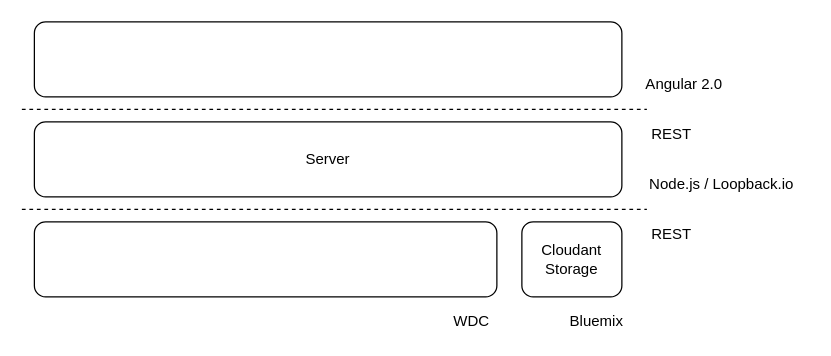
The diagram is 831 pixels wide and 356 high, and some of its shapes have lost their labels. Each missing label, with the centre of its shape:
Client (Browser): the point at 327,59
Watson Discovery Service: the point at 265,259
